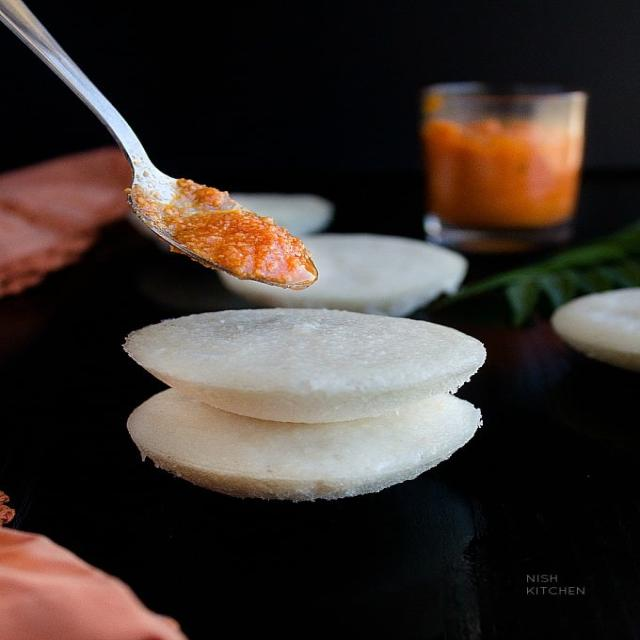Wet Waste: (121, 304, 486, 425), (124, 378, 494, 494), (551, 280, 639, 372)
